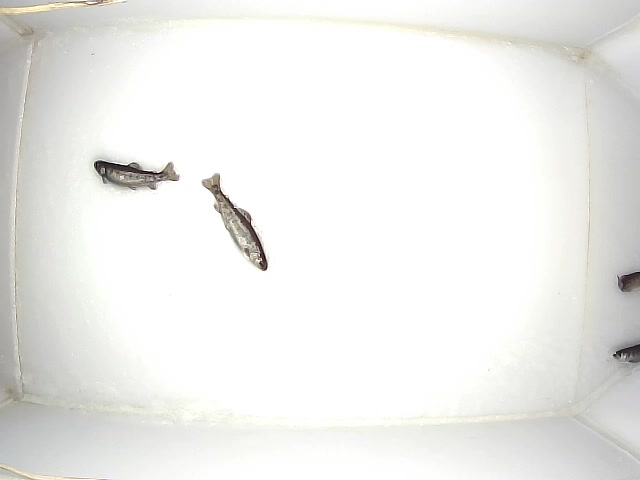fish: (201, 173, 268, 271), (94, 160, 180, 191)
